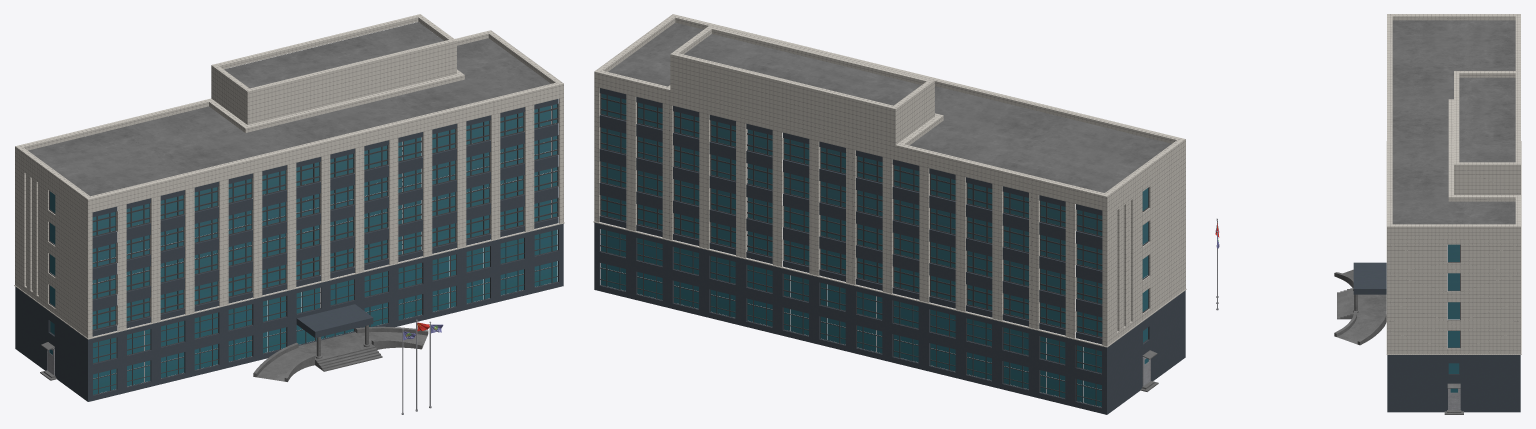
The model's file is 办公楼.glb.
The picture shows the model from 3 angles, left to right: view 1: azimuth 30°, elevation 25°; view 2: azimuth 150°, elevation 25°; view 3: azimuth 270°, elevation 25°; orthographic projection. The views are drawn at different scales.
Visible parts, largest first — view 1: 办公楼00, 办公楼04, 办公楼03, 办公楼01, 办公楼02, 办公楼08; view 2: 办公楼00, 办公楼04, 办公楼03, 办公楼01, 办公楼02; view 3: 办公楼00, 办公楼01, 办公楼04, 办公楼03.
Part boxes in pixels (bbox=[...]): 办公楼00: bbox=[14, 14, 564, 339]; 办公楼04: bbox=[15, 99, 563, 401]; 办公楼03: bbox=[49, 104, 557, 394]; 办公楼01: bbox=[28, 22, 550, 381]; 办公楼02: bbox=[49, 104, 558, 395]; 办公楼08: bbox=[401, 319, 431, 414]; 办公楼00: bbox=[593, 14, 1186, 347]; 办公楼04: bbox=[594, 88, 1185, 414]; 办公楼03: bbox=[601, 93, 1148, 406]; 办公楼01: bbox=[608, 22, 1171, 391]; 办公楼02: bbox=[600, 93, 1149, 407]; 办公楼00: bbox=[1386, 14, 1521, 354]; 办公楼01: bbox=[1334, 20, 1515, 414]; 办公楼04: bbox=[1353, 262, 1520, 412]; 办公楼03: bbox=[1448, 244, 1459, 392].
Size of the model in its own units: 48.89 by 22.57 by 28.92.
Materials: 9 (9 with a texture image).
